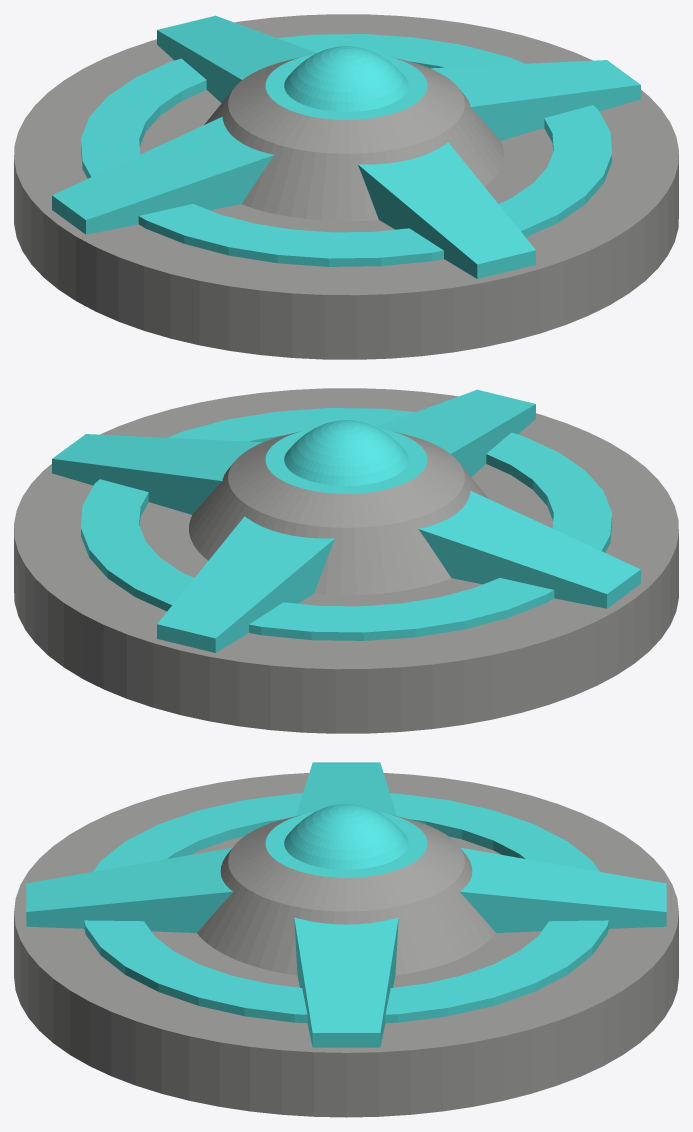
File: Landmine_Ice.fbx
3 renders of one model, top to bottom at view 1: azimuth 30°, elevation 25°; view 2: azimuth 150°, elevation 25°; view 3: azimuth 270°, elevation 25°, orthographic.
Parts seen in each view (by area): view 1: Circle; view 2: Circle; view 3: Circle.
Boxes of the visible parts, x1,y1,x2,y2 form: Circle: (14, 14, 678, 359); Circle: (14, 388, 678, 733); Circle: (14, 762, 678, 1117).
Bounding box in the file's own units: 200 × 55.49 × 200.
Materials: 1 (1 with a texture image).
